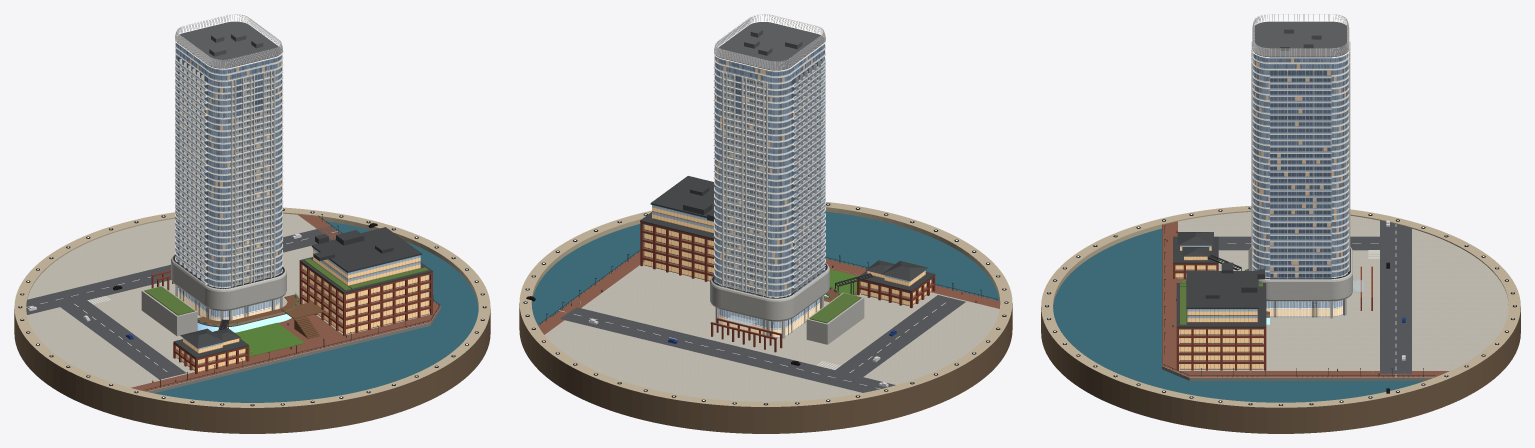
The model's file is branz.glb.
3 views of the same model, side by side, from view 1: azimuth 30°, elevation 25°; view 2: azimuth 150°, elevation 25°; view 3: azimuth 270°, elevation 25° (orthographic). The views are drawn at different scales.
Parts seen in each view (by area): view 1: DisplayBase, Land, Facade, Water, Slabs, Roads, Block2_Frame, Block2_Top, Pilasters, BalconyWalls, Roof, Promenade (+15 smaller); view 2: Land, DisplayBase, Facade, Water, Slabs, Roads, Pilasters, BalconyWalls, Roof, Block2_Frame, Skirt, BalconyGlass (+12 smaller); view 3: Land, DisplayBase, Facade, Water, Slabs, Roads, BalconyGlass, Block2_Top, Block2_Frame, Promenade, Roof, Skirt (+9 smaller).
Part boxes in pixels (x1,y1,x2,y2): DisplayBase: (14, 207, 490, 433); Land: (27, 213, 440, 393); Facade: (175, 43, 282, 287); Water: (154, 221, 478, 402); Slabs: (175, 24, 283, 288); Roads: (26, 225, 340, 379); Block2_Frame: (299, 261, 432, 335); Block2_Top: (299, 227, 432, 293); Pilasters: (231, 70, 275, 287); BalconyWalls: (179, 59, 204, 281); Roof: (176, 21, 281, 68); Promenade: (131, 214, 440, 391); Land: (545, 262, 999, 401); DisplayBase: (519, 202, 1012, 433); Facade: (714, 44, 824, 297); Water: (532, 211, 999, 325); Slabs: (713, 21, 825, 297); Roads: (551, 295, 965, 392); Pilasters: (722, 72, 767, 297); BalconyWalls: (795, 60, 821, 290); Roof: (715, 22, 824, 70); Block2_Frame: (640, 221, 714, 281); Skirt: (710, 263, 829, 321); BalconyGlass: (794, 62, 825, 293); Land: (1162, 212, 1508, 380); DisplayBase: (1041, 206, 1520, 433); Facade: (1253, 54, 1348, 277); Water: (1053, 228, 1424, 402); Slabs: (1252, 23, 1349, 279); Roads: (1218, 220, 1411, 377); BalconyGlass: (1270, 75, 1331, 279); Block2_Top: (1176, 262, 1266, 327); Block2_Frame: (1176, 327, 1266, 370); Promenade: (1162, 221, 1449, 377); Roof: (1254, 21, 1347, 57); Skirt: (1248, 247, 1352, 301).
Bounding box in the file's own units: 242 × 164 × 242.
41 materials, 11 textured.
